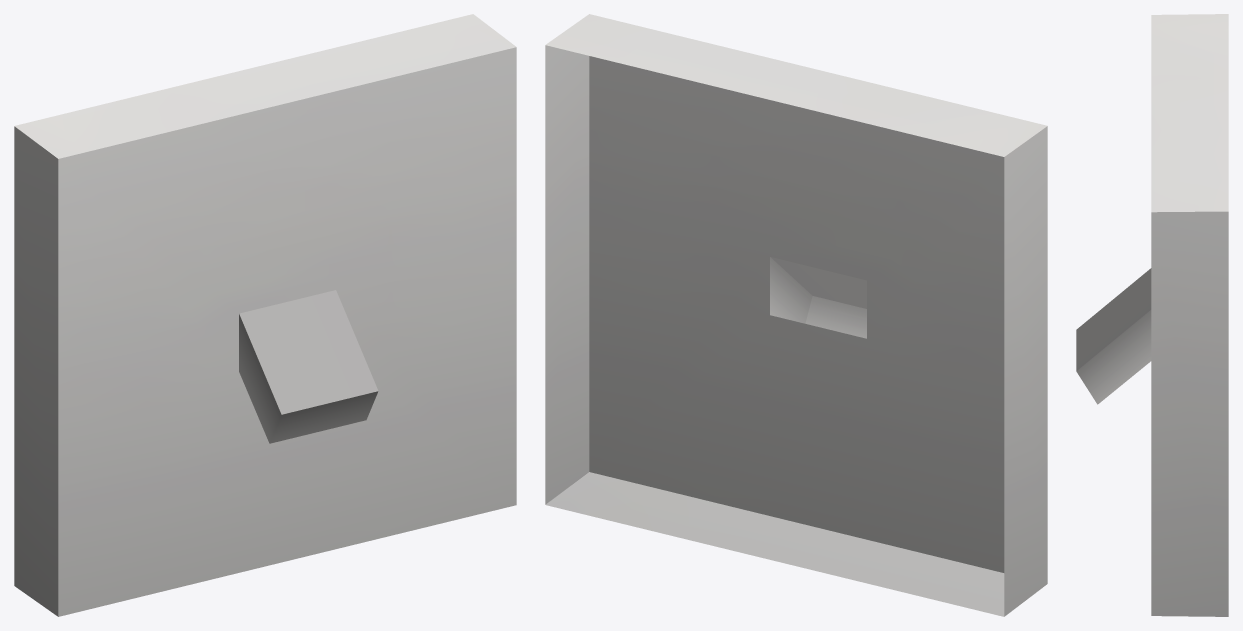
Rendered from Wall_LightSwitch.fbx.
3 views of the same model, side by side, from view 1: azimuth 30°, elevation 25°; view 2: azimuth 150°, elevation 25°; view 3: azimuth 270°, elevation 25° (orthographic). The views are drawn at different scales.
Visible parts, largest first — view 1: Wall_LightSwitch; view 2: Wall_LightSwitch; view 3: Wall_LightSwitch.
Boxes of the visible parts, x1=… form: Wall_LightSwitch: x1=14, y1=14, x2=516, y2=616; Wall_LightSwitch: x1=545, y1=14, x2=1047, y2=616; Wall_LightSwitch: x1=1076, y1=14, x2=1228, y2=616.
Bounding box in the file's own units: 14.53 × 13.91 × 4.73.
